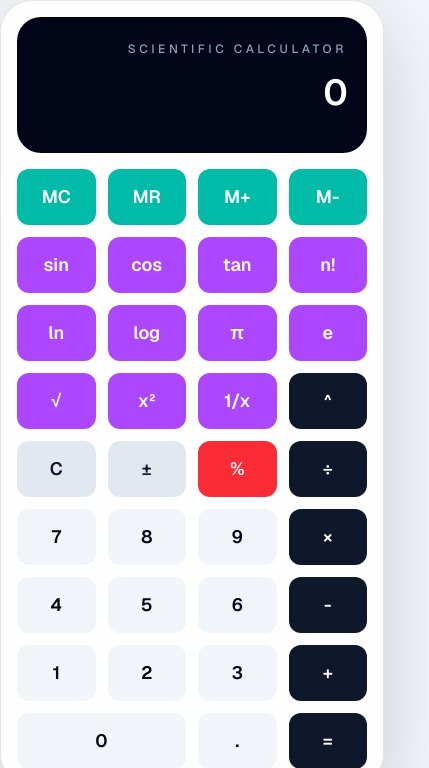
Test: Calculator › replays last operation on repeated equals
Click the button "2" at point(147, 673), box x1=108 y1=645 x2=186 y2=701
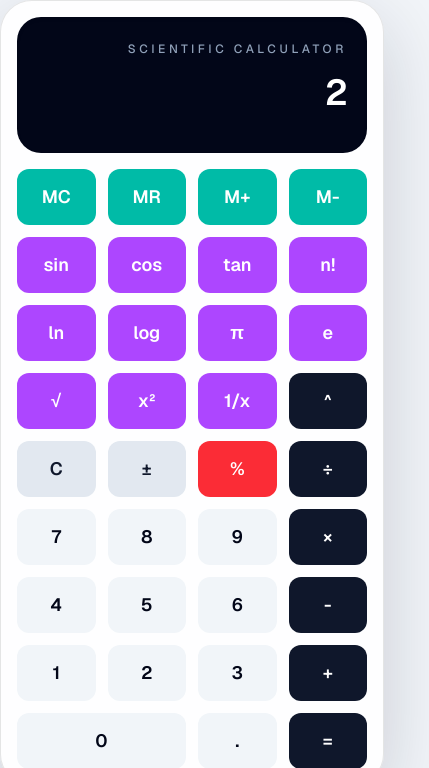
Click the button named "Multiply" at point(328, 537), box x1=288 y1=509 x2=367 y2=565
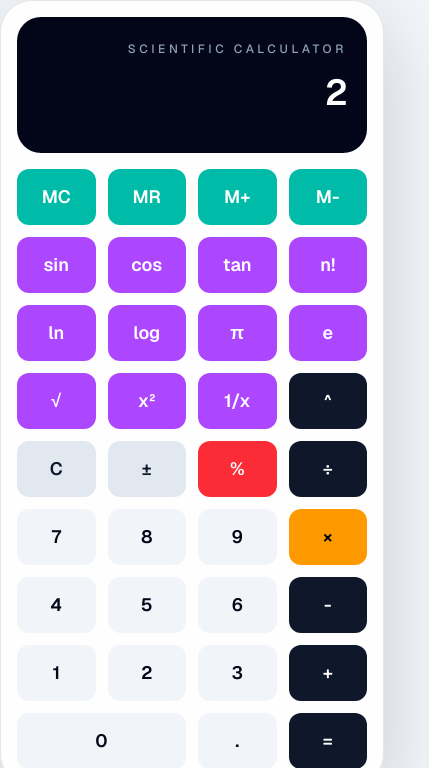
Click the button "3" at point(237, 673), box x1=198 y1=645 x2=276 y2=701
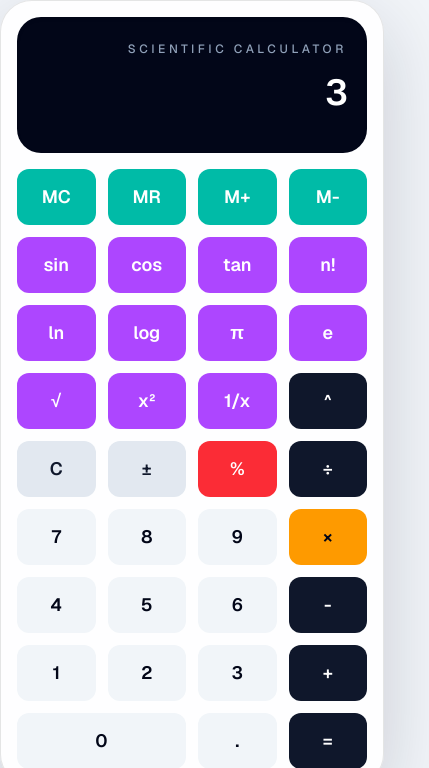
Click the button named "Equals" at point(328, 741), box x1=288 y1=713 x2=367 y2=767
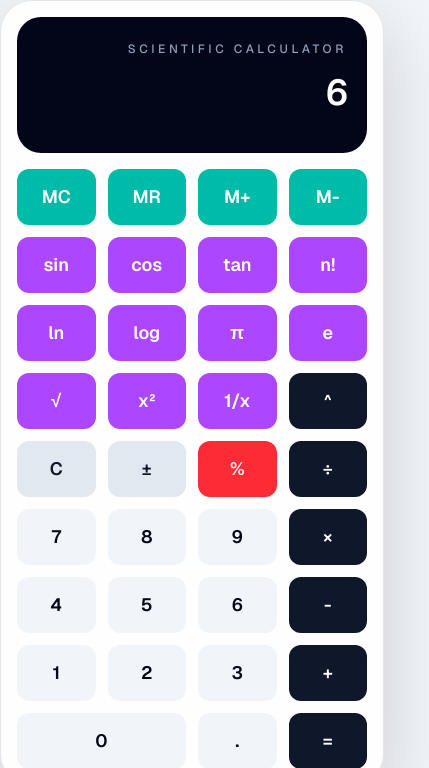
Click the button named "Equals" at point(328, 741), box x1=288 y1=713 x2=367 y2=767
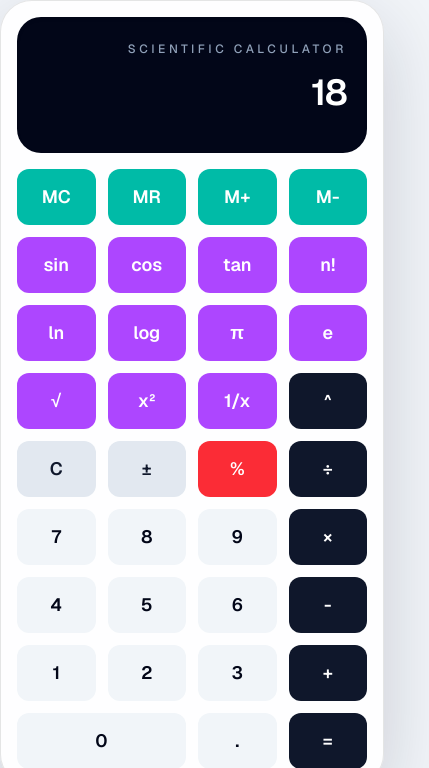
Expected: the text "18" is shown, x1=311 y1=69 x2=347 y2=116
